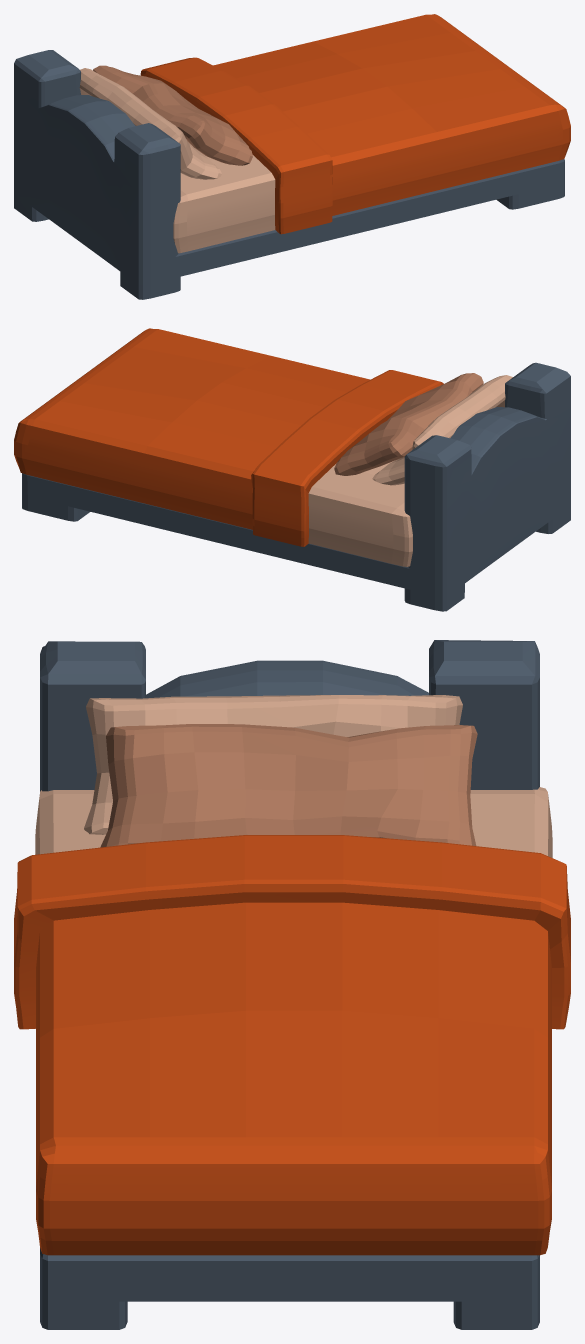
The model's file is bed_singlebedroom.fbx.
The picture shows the model from 3 angles, top to bottom: view 1: azimuth 30°, elevation 25°; view 2: azimuth 150°, elevation 25°; view 3: azimuth 270°, elevation 25°; orthographic projection. The views are drawn at different scales.
Parts seen in each view (by area): view 1: bed_singlebedroom, Cube.067, Cube.018, Cube.093; view 2: bed_singlebedroom, Cube.067, Cube.018, Cube.093; view 3: bed_singlebedroom, Cube.067, Cube.093, Cube.018.
Boxes of the visible parts, x1=… form: bed_singlebedroom: x1=140, y1=14, x2=570, y2=234; Cube.067: x1=14, y1=50, x2=564, y2=299; Cube.018: x1=79, y1=68, x2=275, y2=253; Cube.093: x1=93, y1=65, x2=252, y2=165; bed_singlebedroom: x1=14, y1=328, x2=443, y2=546; Cube.067: x1=22, y1=362, x2=570, y2=611; Cube.018: x1=308, y1=375, x2=512, y2=566; Cube.093: x1=334, y1=373, x2=483, y2=475; bed_singlebedroom: x1=14, y1=835, x2=570, y2=1255; Cube.067: x1=40, y1=640, x2=539, y2=1329; Cube.093: x1=100, y1=724, x2=477, y2=847; Cube.018: x1=35, y1=695, x2=552, y2=857.
Bounding box in the file's own units: 248 × 83.82 × 143.
